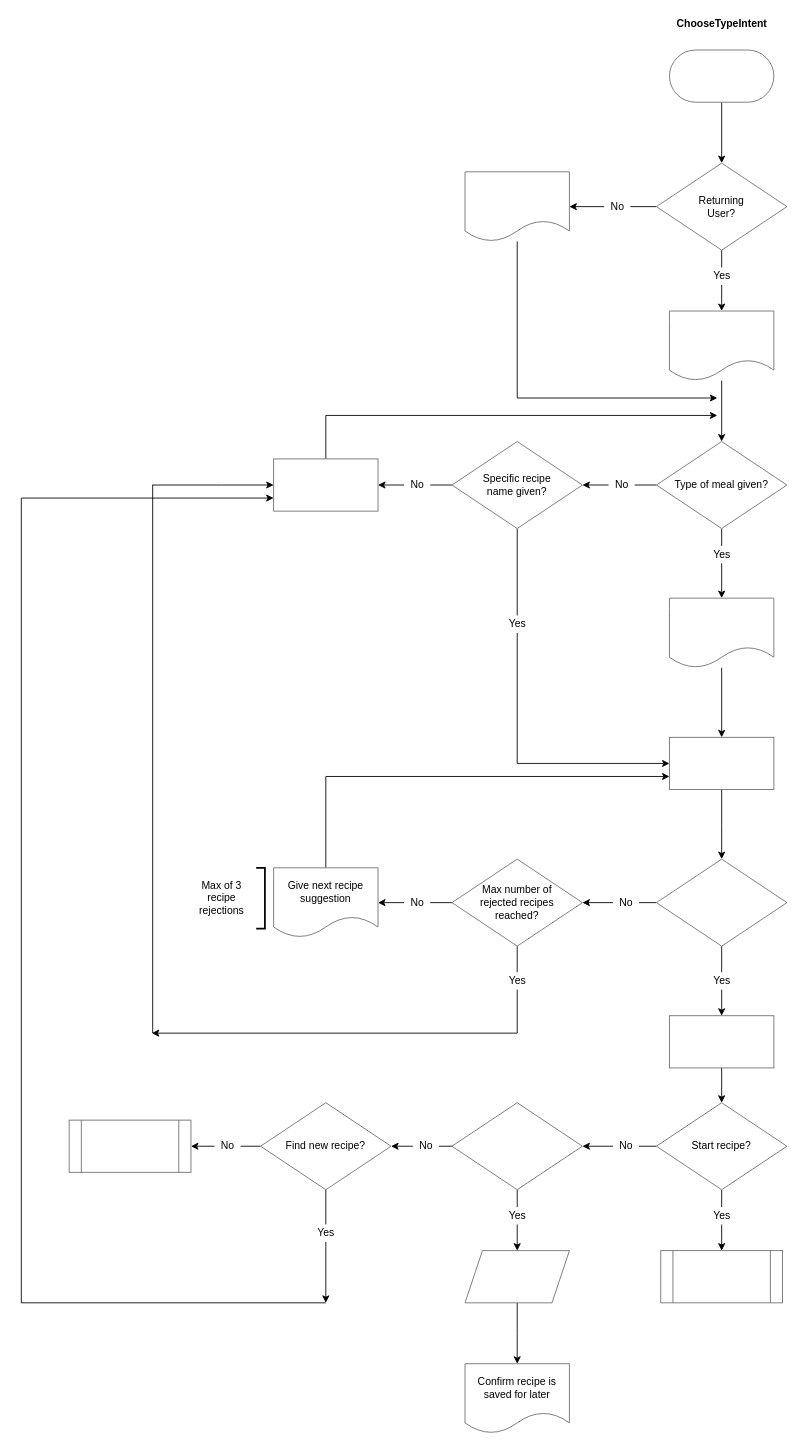
This 802x1449 diagram has some shape labels left out. The centre of each missing label's shape, as x and y in pixels:
CancelIntent: [129,1145]
Give first (max. 3) recipe suggestions: [721,632]
InstructionsIntent: [721,1276]
Personal Greeting: [721,345]
Prompt for user request: [325,484]
Prompt User to choose recipe: [721,763]
Prompt User to start recipe: [721,1041]
Recipe selected?: [721,902]
Save recipe preference: [516,1276]
Save recipe?: [516,1146]
Start: [721,75]
Welcome and brief skill explanation: [516,206]
